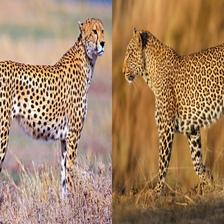Cheetah: (2, 16, 108, 207), (122, 25, 224, 196)
